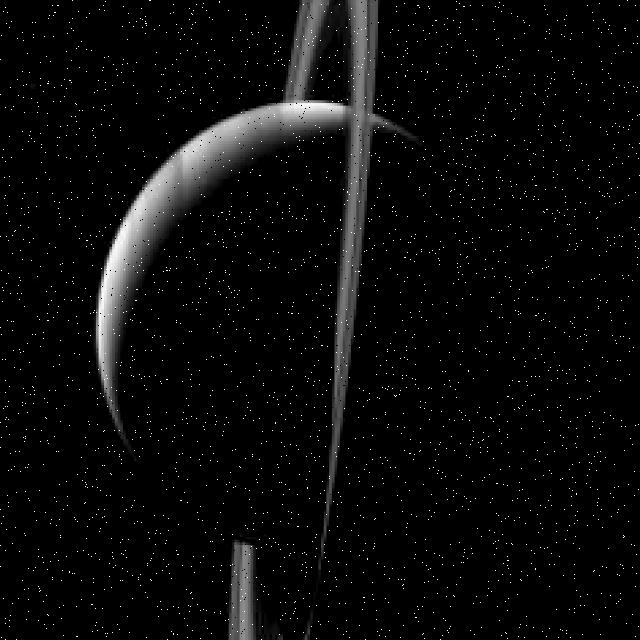Saturn: (95, 0, 445, 640)
